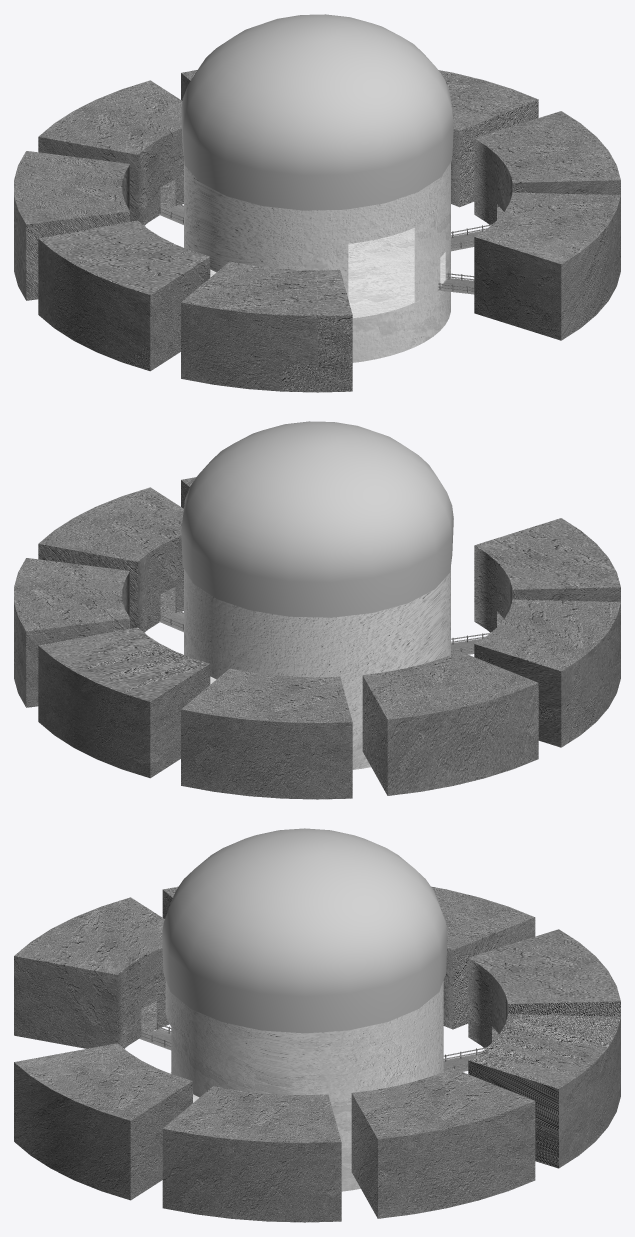
Rendered from Fachada.obj.
The picture shows the model from 3 angles, top to bottom: view 1: azimuth 30°, elevation 25°; view 2: azimuth 150°, elevation 25°; view 3: azimuth 270°, elevation 25°; orthographic projection. The views are drawn at different scales.
Visible parts, largest first — view 1: pSphere15, pCylinder73, pCylinder72 polySurface6, pCylinder72 polySurface5, pCylinder72 polySurface7, pCylinder72 polySurface3, pCylinder72 polySurface8, pCylinder72 polySurface4, polySurface1 pCylinder72, pDisc1, pasted__pasted__pasted__pasted__pasted__group22 pasted__pasted__, pasted__pasted__pasted__pasted__group22 pasted__pasted__pasted__; view 2: pSphere15, pCylinder72 polySurface4, pCylinder72 polySurface3, pCylinder73, pCylinder72 polySurface2, pCylinder72 polySurface5, pCylinder72 polySurface8, pCylinder72 polySurface6, polySurface1 pCylinder72; view 3: pSphere15, polySurface1 pCylinder72, pCylinder72 polySurface8, pCylinder73, pCylinder72 polySurface7, pCylinder72 polySurface6, pCylinder72 polySurface2, pCylinder72 polySurface3, pCylinder72 polySurface4.
Part boxes in pixels (x1,y1,x2,y2): pSphere15: (181, 14, 453, 210); pCylinder73: (184, 160, 450, 362); pCylinder72 polySurface6: (181, 261, 352, 392); pCylinder72 polySurface5: (38, 220, 209, 371); pCylinder72 polySurface7: (474, 192, 620, 340); pCylinder72 polySurface3: (38, 80, 183, 225); pCylinder72 polySurface8: (474, 111, 620, 224); pCylinder72 polySurface4: (14, 151, 129, 300); polySurface1 pCylinder72: (438, 70, 538, 207); pDisc1: (210, 228, 445, 318); pasted__pasted__pasted__pasted__pasted__group22 pasted__pasted__: (438, 272, 474, 294); pasted__pasted__pasted__pasted__group22 pasted__pasted__pasted__: (451, 224, 491, 251); pSphere15: (181, 421, 453, 617); pCylinder72 polySurface4: (362, 651, 538, 795); pCylinder72 polySurface3: (181, 668, 352, 799); pCylinder73: (184, 567, 450, 769); pCylinder72 polySurface2: (38, 627, 209, 778); pCylinder72 polySurface5: (474, 599, 620, 747); pCylinder72 polySurface8: (38, 487, 183, 632); pCylinder72 polySurface6: (474, 518, 620, 632); polySurface1 pCylinder72: (14, 558, 129, 707); pSphere15: (162, 828, 447, 1033); polySurface1 pCylinder72: (351, 1068, 535, 1218); pCylinder72 polySurface8: (162, 1086, 341, 1222); pCylinder73: (165, 980, 443, 1191); pCylinder72 polySurface7: (14, 1043, 192, 1200); pCylinder72 polySurface6: (14, 897, 169, 1048); pCylinder72 polySurface2: (468, 1014, 620, 1168); pCylinder72 polySurface3: (468, 929, 620, 1047); pCylinder72 polySurface4: (431, 886, 535, 1029).
Size of what is drawn, in the model's own units: 49.66 by 24.93 by 47.59.
